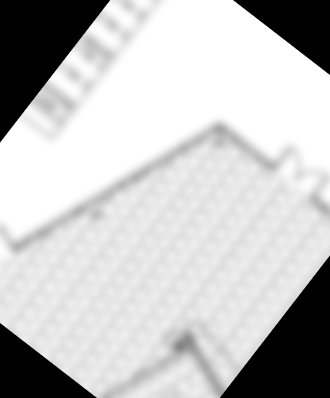double door: (269, 142, 330, 202), (0, 211, 24, 288)
wall: (98, 331, 185, 398), (172, 334, 242, 398)
